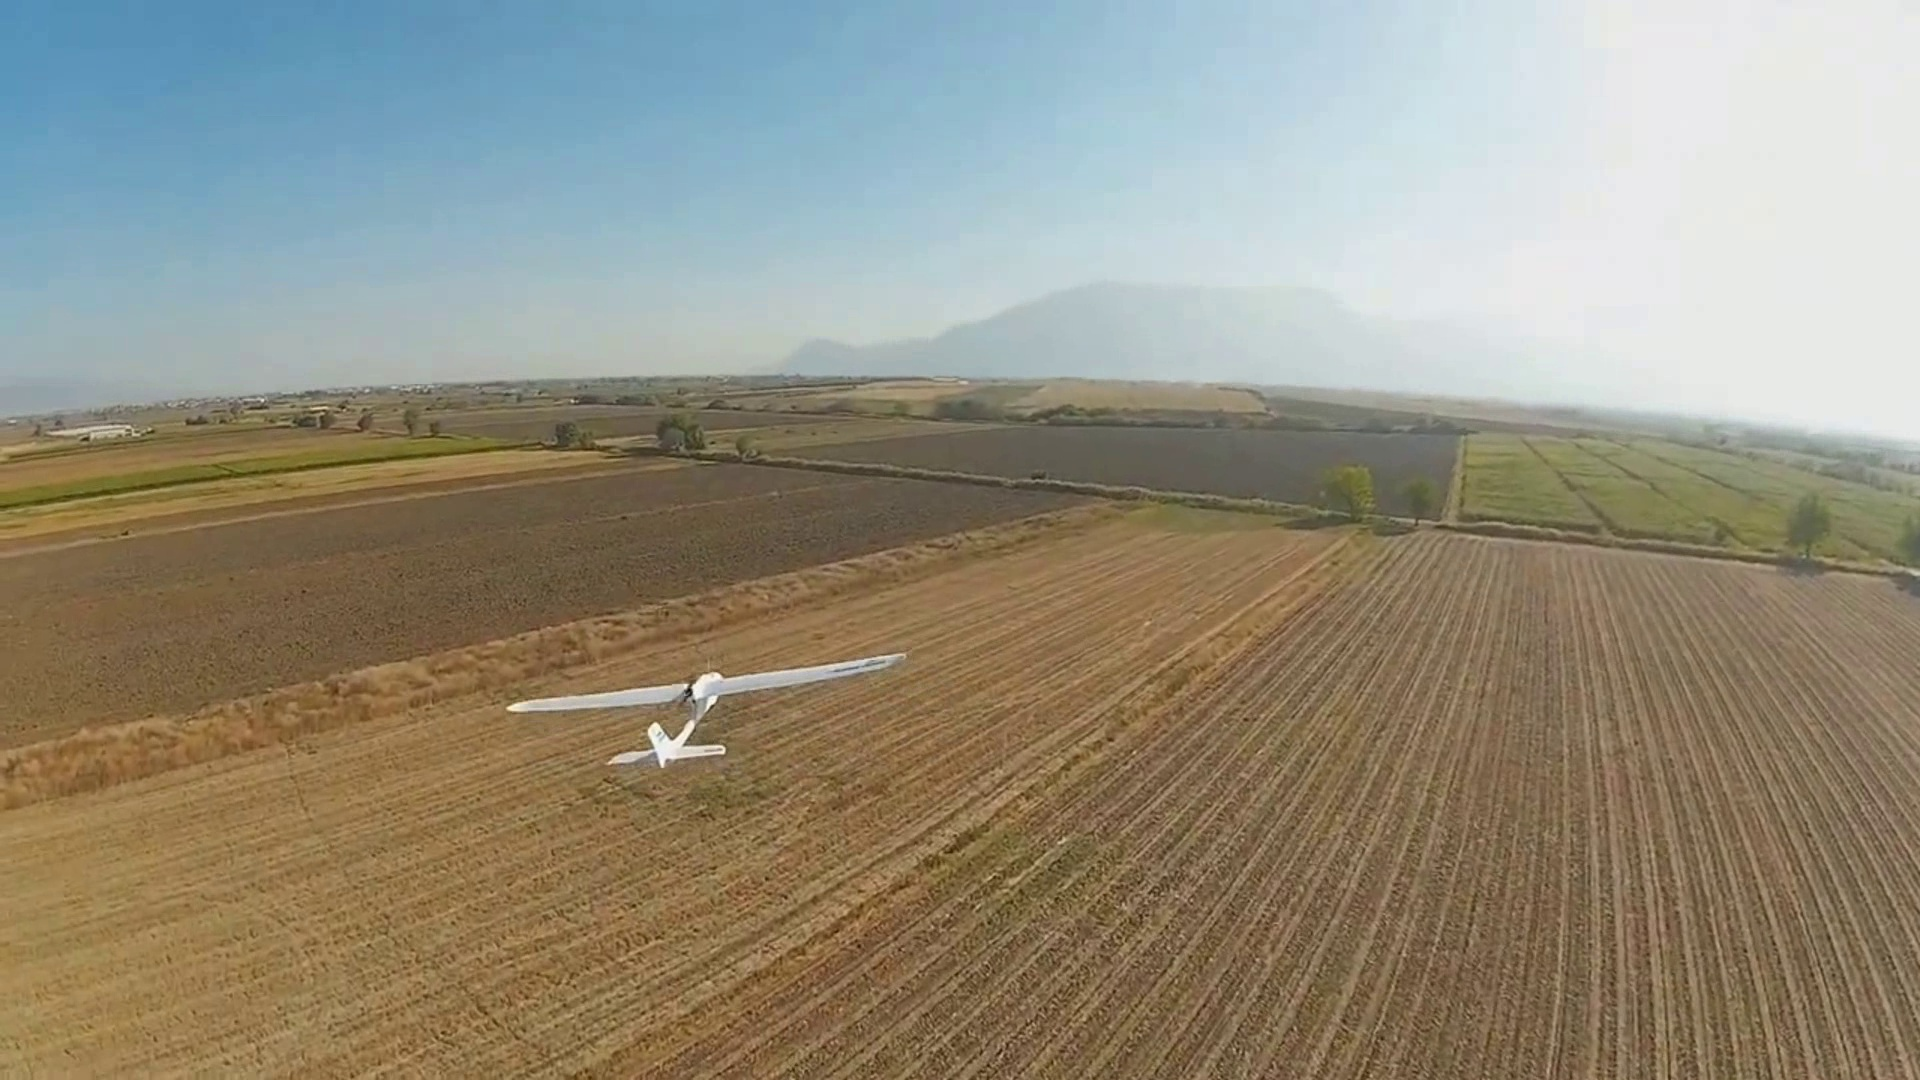airplane: (504, 651, 909, 769)
